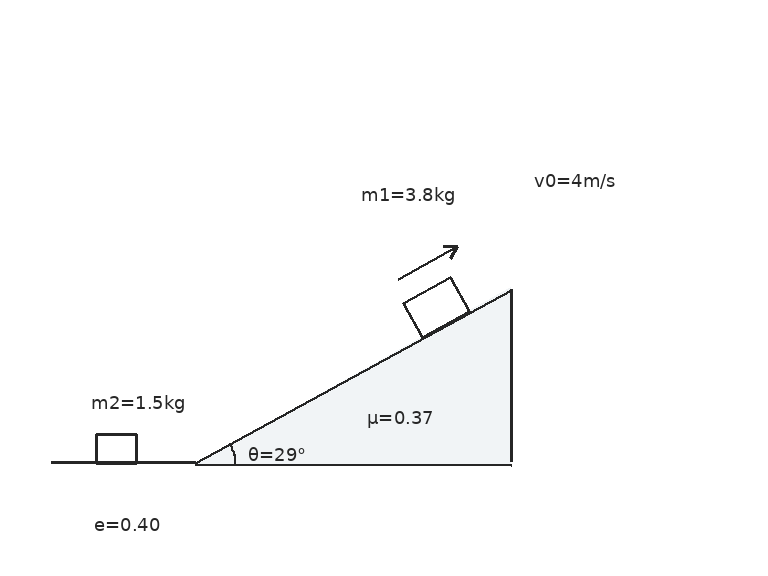block: (401, 275, 471, 339), (94, 432, 138, 465)
ramp: (193, 286, 513, 465)
